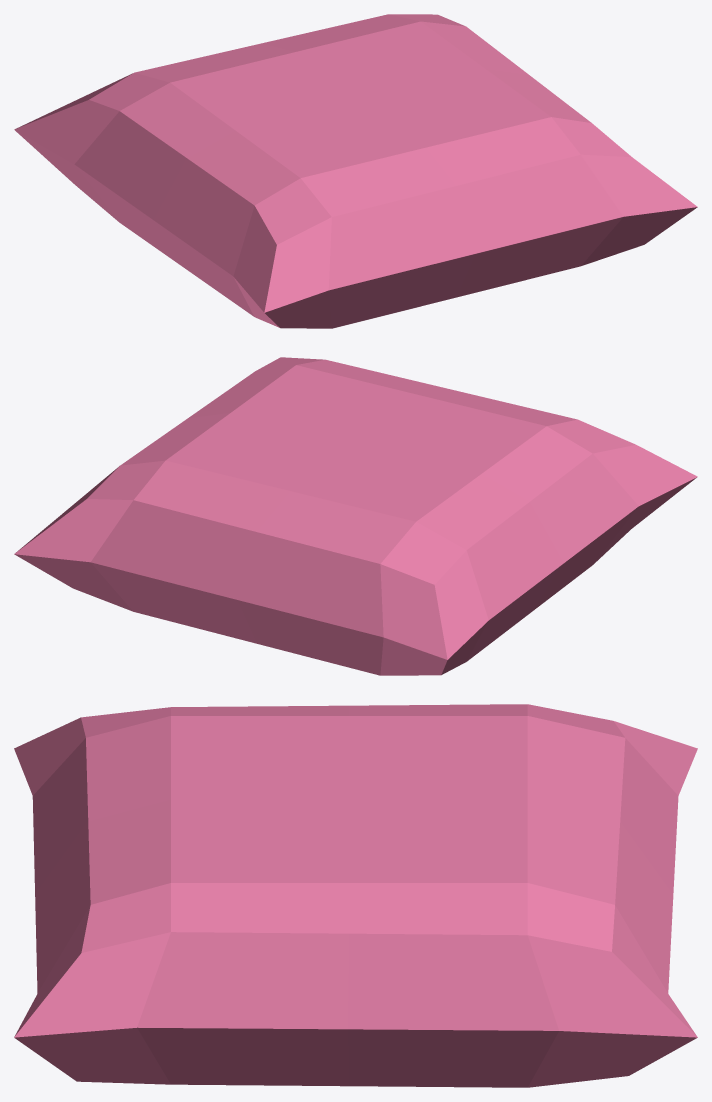
Rendered from pillow.fbx.
The picture shows the model from 3 angles, top to bottom: view 1: azimuth 30°, elevation 25°; view 2: azimuth 150°, elevation 25°; view 3: azimuth 270°, elevation 25°; orthographic projection. The views are drawn at different scales.
Visible parts, largest first — view 1: Cube; view 2: Cube; view 3: Cube.
Part boxes in pixels (x1,y1,x2,y2): Cube: (14,14,697,328); Cube: (14,357,697,675); Cube: (14,704,697,1087).
Size of the model in its own units: 237 by 75.77 by 237.
